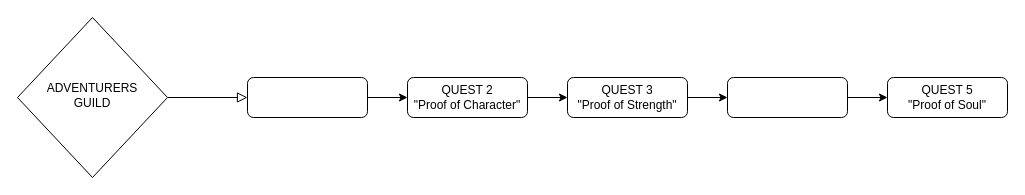
The diagram is 1025 pixels wide and 195 high, and some of its shapes have lost their labels. Each missing label, with the centre of its shape:
QUEST 1 "Proof of Will": the point at 307,97
QUEST 4 "Proof of Resistance": the point at 787,97
